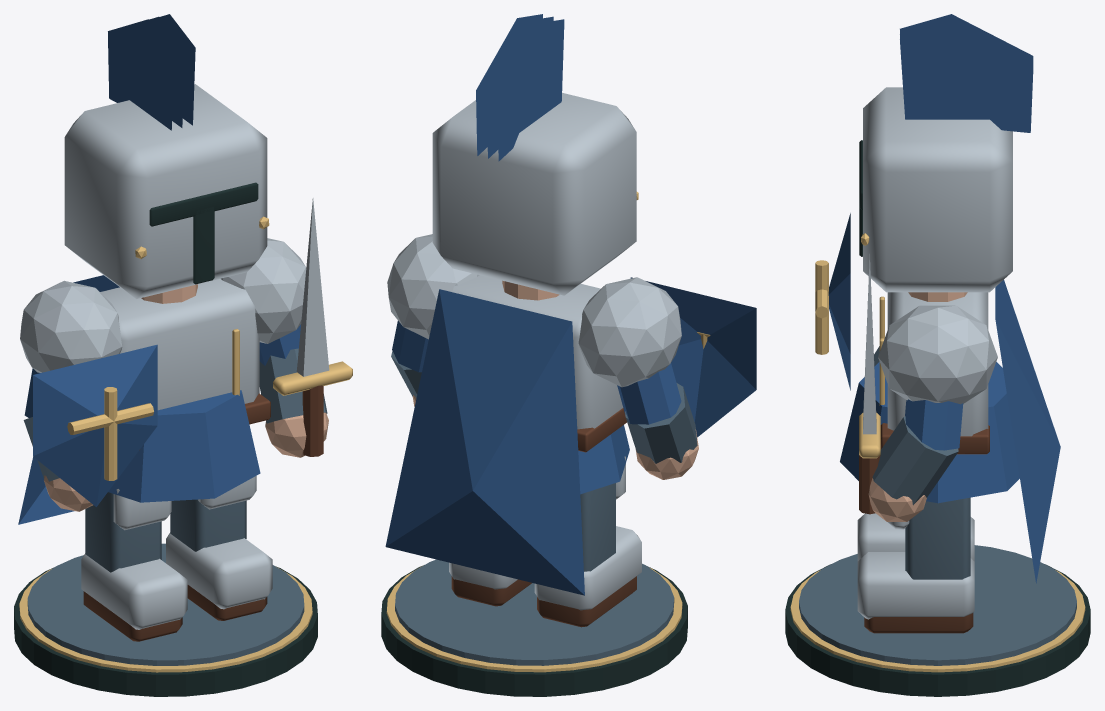
The model's file is lancelot.glb.
The picture shows the model from 3 angles, left to right: view 1: azimuth 30°, elevation 25°; view 2: azimuth 150°, elevation 25°; view 3: azimuth 270°, elevation 25°; orthographic projection.
Visible parts, largest first — view 1: GreatHelm, PedestalTop, Torso, Shield, Coat, Pedestal, LeftShoulder, ArmoredBoot, BluePlume, ArmoredBoot.001, RightShoulder, Leg (+23 smaller); view 2: Cape, GreatHelm, PedestalTop, Shield, LeftShoulder, Pedestal, BluePlume, Torso, RightShoulder, ArmoredBoot, PedestalRim, LeftForearm (+12 smaller); view 3: GreatHelm, PedestalTop, BluePlume.002, RightShoulder, Pedestal, Cape, Coat, ArmoredBoot.001, Leg.001, RightForearm, Torso, PedestalRim (+12 smaller).
Part boxes in pixels (<box>): GreatHelm: <box>64,84,267,298</box>; PedestalTop: <box>27,543,304,665</box>; Torso: <box>100,278,259,410</box>; Shield: <box>33,344,157,506</box>; Coat: <box>108,390,260,502</box>; Pedestal: <box>14,566,317,696</box>; LeftShoulder: <box>20,280,122,372</box>; ArmoredBoot: <box>81,553,187,629</box>; BluePlume: <box>108,19,174,130</box>; ArmoredBoot.001: <box>166,532,272,609</box>; RightShoulder: <box>221,238,306,343</box>; Leg: <box>85,492,161,572</box>; Cape: <box>385,289,584,595</box>; GreatHelm: <box>432,92,636,295</box>; PedestalTop: <box>395,559,674,665</box>; Shield: <box>630,277,756,437</box>; LeftShoulder: <box>578,277,681,387</box>; Pedestal: <box>381,565,687,696</box>; BluePlume: <box>497,19,564,161</box>; Torso: <box>451,275,623,429</box>; RightShoulder: <box>387,234,479,339</box>; ArmoredBoot: <box>534,526,641,610</box>; PedestalRim: <box>386,566,682,672</box>; LeftForearm: <box>625,383,697,463</box>; GreatHelm: <box>863,87,1012,292</box>; PedestalTop: <box>799,545,1076,665</box>; BluePlume.002: <box>900,24,1033,132</box>; RightShoulder: <box>878,305,997,404</box>; Pedestal: <box>785,564,1090,696</box>; Cape: <box>995,280,1060,583</box>; Coat: <box>840,362,1019,503</box>; ArmoredBoot.001: <box>857,552,974,619</box>; Leg.001: <box>905,497,970,579</box>; RightForearm: <box>872,416,958,505</box>; Torso: <box>887,292,988,436</box>; PedestalRim: <box>790,570,1085,672</box>.
Size of the model in its own units: 0.18 by 0.3224 by 0.1456.
